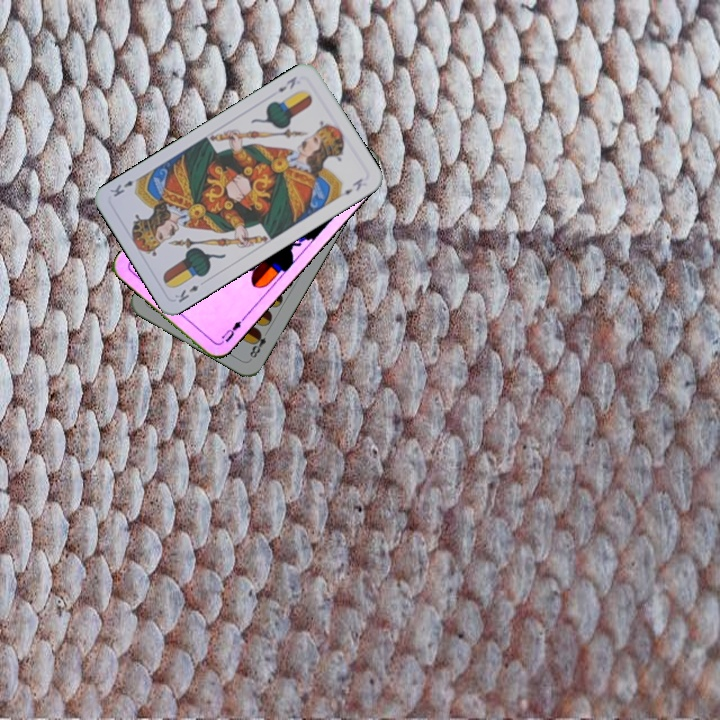E8: (246, 327, 269, 362)
EK: (170, 281, 201, 305), (274, 72, 299, 95)
EU: (216, 314, 247, 347)
